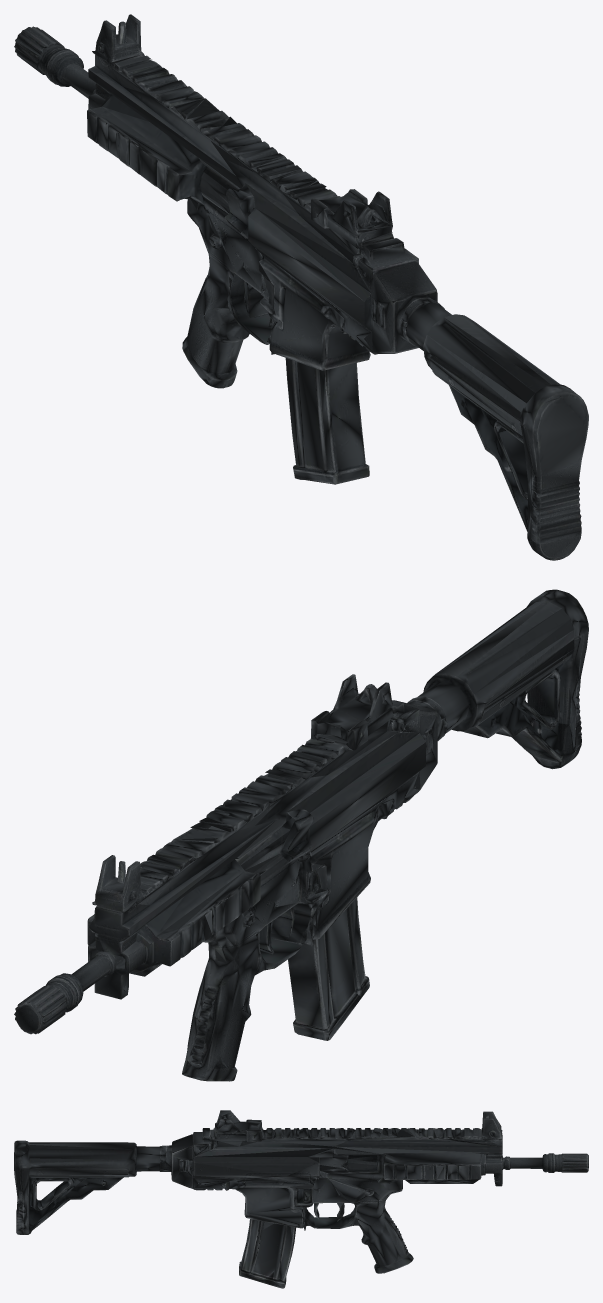
File: ar_kestrel.glb
3 renders of one model, top to bottom at view 1: azimuth 30°, elevation 25°; view 2: azimuth 150°, elevation 25°; view 3: azimuth 270°, elevation 25°, orthographic. The views are drawn at different scales.
Visible parts, largest first — view 1: ar_kestrel; view 2: ar_kestrel; view 3: ar_kestrel.
Boxes of the visible parts, left/top/right/bottom form: ar_kestrel: left=14, top=14, right=588, bottom=560; ar_kestrel: left=14, top=589, right=588, bottom=1081; ar_kestrel: left=14, top=1110, right=588, bottom=1288.
Bounding box in the file's own units: 0.0774 × 0.274 × 0.84.
1 material, 1 textured.
